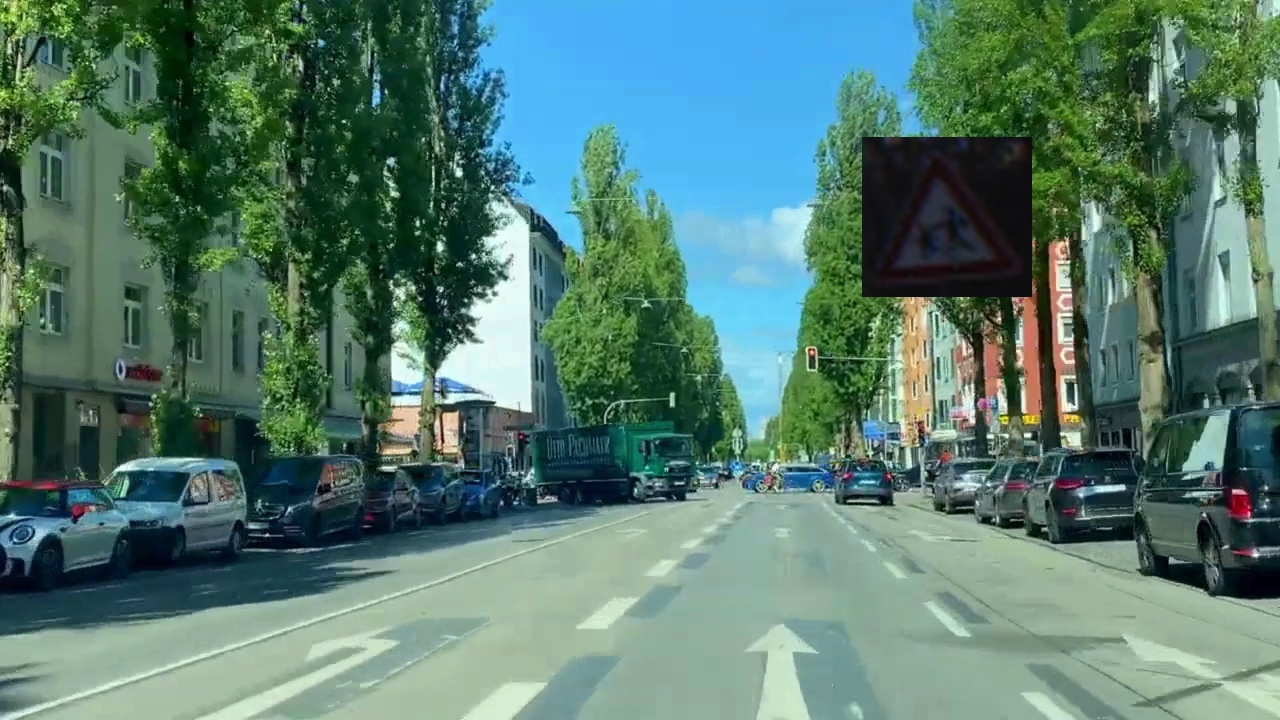Children: (862, 137, 1032, 297)
